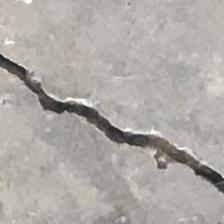Crack: (0, 50, 224, 200)
